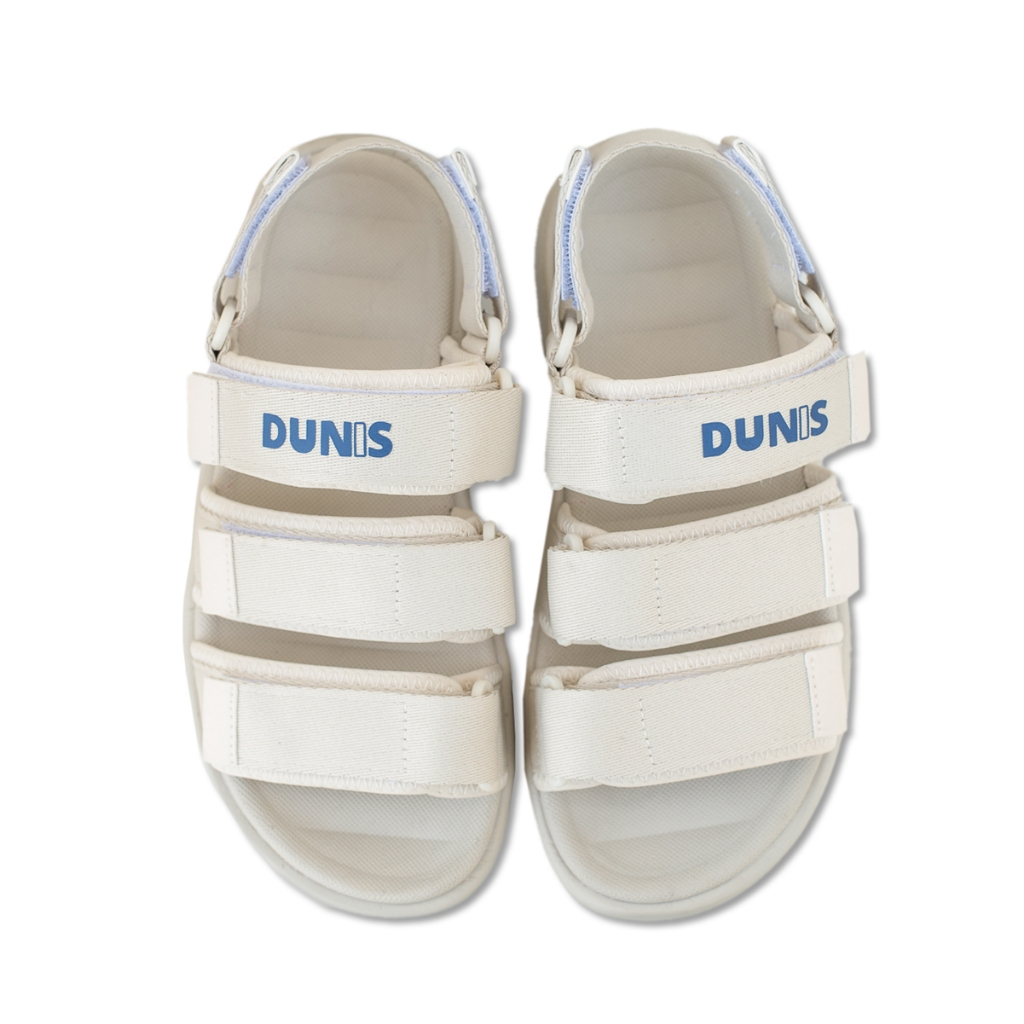sandals: (524, 129, 881, 925), (181, 133, 524, 922)
